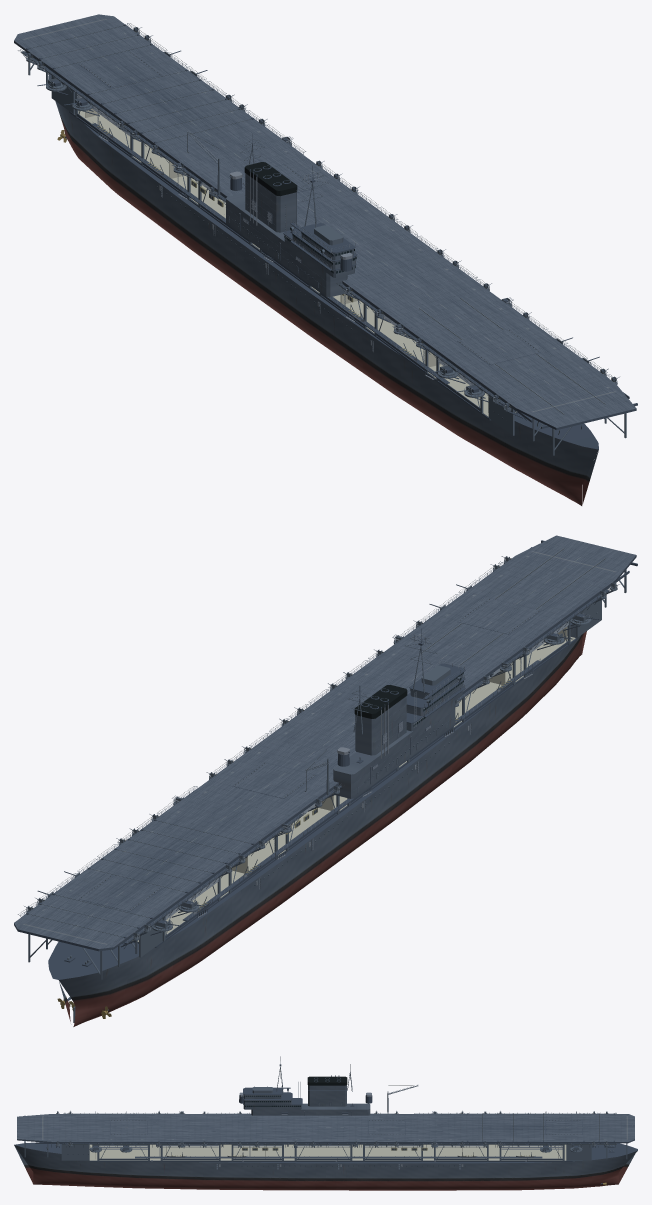
The model's file is enterprise-cv6-1942.glb.
3 renders of one model, top to bottom at view 1: azimuth 30°, elevation 25°; view 2: azimuth 150°, elevation 25°; view 3: azimuth 270°, elevation 25°, orthographic. The views are drawn at different scales.
Parts seen in each view (by area): view 1: flight-deck-deckPaint, hull-hullPaint, island-hullPaint, deck-fittings-detail-deckPaint, hangar-interior, hangar-usDark, hangar-usSteel, hull-usDark, deck-fittings-detail-usDark, armament-detail-usSteel, island-usDark, deck-fittings-detail-usSteel (+7 smaller); view 2: flight-deck-deckPaint, hull-hullPaint, island-hullPaint, deck-fittings-detail-deckPaint, hangar-interior, hull-usDark, hangar-usDark, hangar-usSteel, armament-detail-usSteel, deck-fittings-detail-usDark, island-usDark, flight-deck-usDark (+6 smaller); view 3: hull-hullPaint, flight-deck-deckPaint, hangar-interior, hangar-usDark, island-hullPaint, hangar-usSteel, deck-fittings-detail-deckPaint, hull-usDark, hangar-usLight, flight-deck-usDark, deck-fittings-detail-usDark, armament-detail-usSteel (+7 smaller).
Boxes of the visible parts, bbox=[...] form: flight-deck-deckPaint: bbox=[14, 14, 636, 427]; hull-hullPaint: bbox=[55, 101, 598, 505]; island-hullPaint: bbox=[226, 173, 355, 297]; deck-fittings-detail-deckPaint: bbox=[79, 51, 539, 364]; hangar-interior: bbox=[75, 109, 516, 416]; hangar-usDark: bbox=[69, 111, 507, 421]; hangar-usSteel: bbox=[51, 75, 514, 435]; hull-usDark: bbox=[48, 74, 598, 449]; deck-fittings-detail-usDark: bbox=[21, 24, 609, 405]; armament-detail-usSteel: bbox=[26, 27, 617, 411]; island-usDark: bbox=[229, 134, 357, 271]; deck-fittings-detail-usSteel: bbox=[18, 23, 612, 407]; flight-deck-deckPaint: bbox=[14, 535, 636, 948]; hull-hullPaint: bbox=[59, 624, 586, 1026]; island-hullPaint: bbox=[333, 673, 463, 798]; deck-fittings-detail-deckPaint: bbox=[79, 598, 540, 911]; hangar-interior: bbox=[132, 626, 575, 941]; hull-usDark: bbox=[48, 623, 571, 979]; hangar-usDark: bbox=[132, 613, 596, 947]; hangar-usSteel: bbox=[139, 600, 601, 957]; armament-detail-usSteel: bbox=[26, 556, 617, 940]; deck-fittings-detail-usDark: bbox=[21, 565, 609, 943]; island-usDark: bbox=[337, 628, 465, 766]; flight-deck-usDark: bbox=[14, 555, 636, 951]; hull-hullPaint: bbox=[14, 1145, 637, 1190]; flight-deck-deckPaint: bbox=[17, 1114, 634, 1141]; hangar-interior: bbox=[89, 1144, 566, 1160]; hangar-usDark: bbox=[72, 1145, 572, 1161]; island-hullPaint: bbox=[243, 1085, 370, 1115]; hangar-usSteel: bbox=[61, 1144, 591, 1161]; deck-fittings-detail-deckPaint: bbox=[110, 1120, 581, 1134]; hull-usDark: bbox=[14, 1142, 637, 1163]; hangar-usLight: bbox=[99, 1145, 562, 1161]; flight-deck-usDark: bbox=[17, 1139, 634, 1143]; deck-fittings-detail-usDark: bbox=[63, 1113, 616, 1144]; armament-detail-usSteel: bbox=[55, 1111, 608, 1152].
Bounding box in the file's own units: 37.63 × 49.31 × 247.
Materials: 41 (4 with a texture image).
